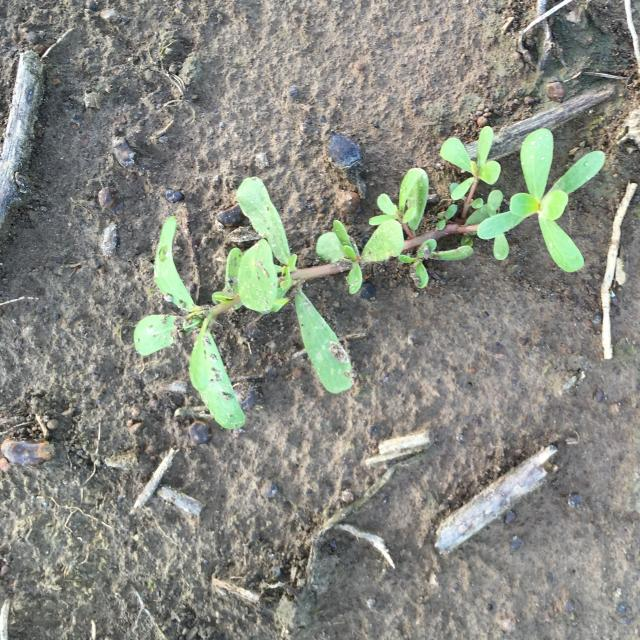Purslane: (133, 126, 605, 429)
